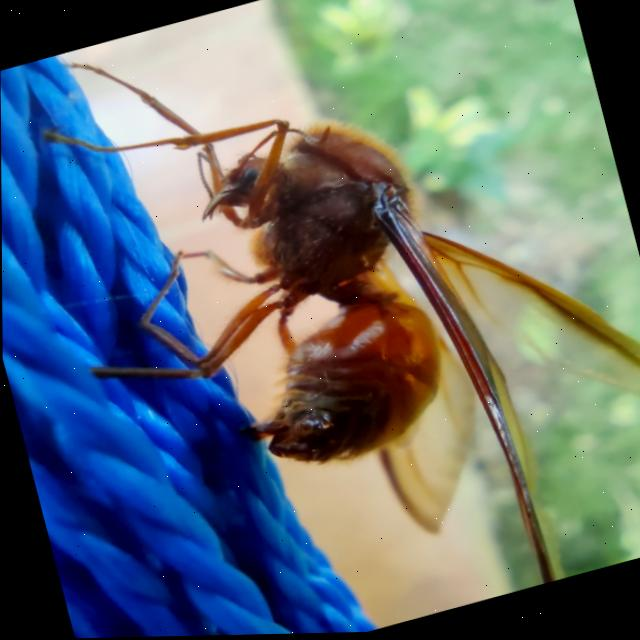Alive-Male-Alate: (16, 0, 640, 640)
